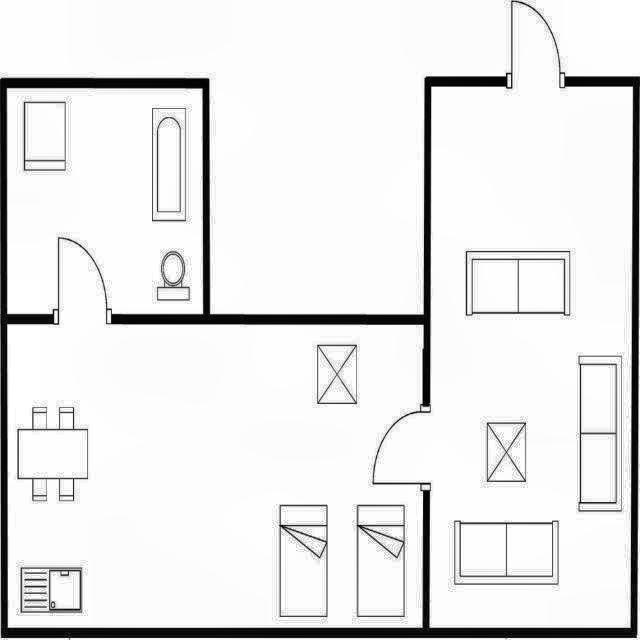room: (7, 325, 423, 627), (431, 87, 630, 628), (8, 90, 203, 315)
